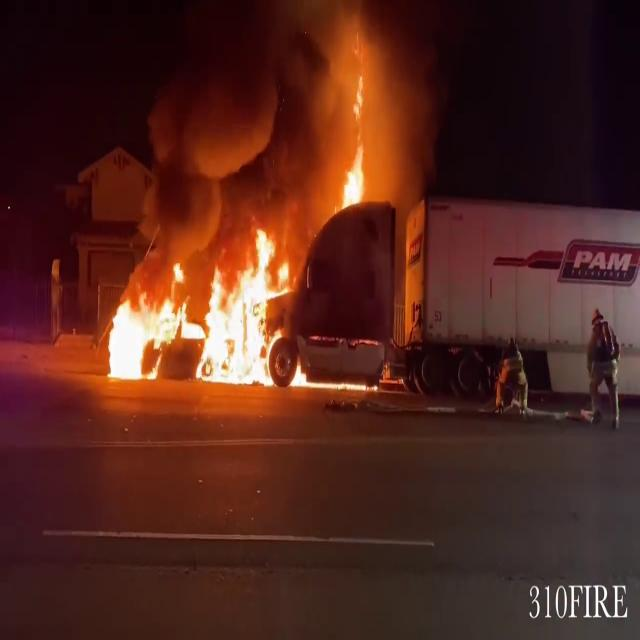Fire: (98, 225, 312, 390), (328, 77, 379, 226)
Smoke: (136, 0, 448, 235)
